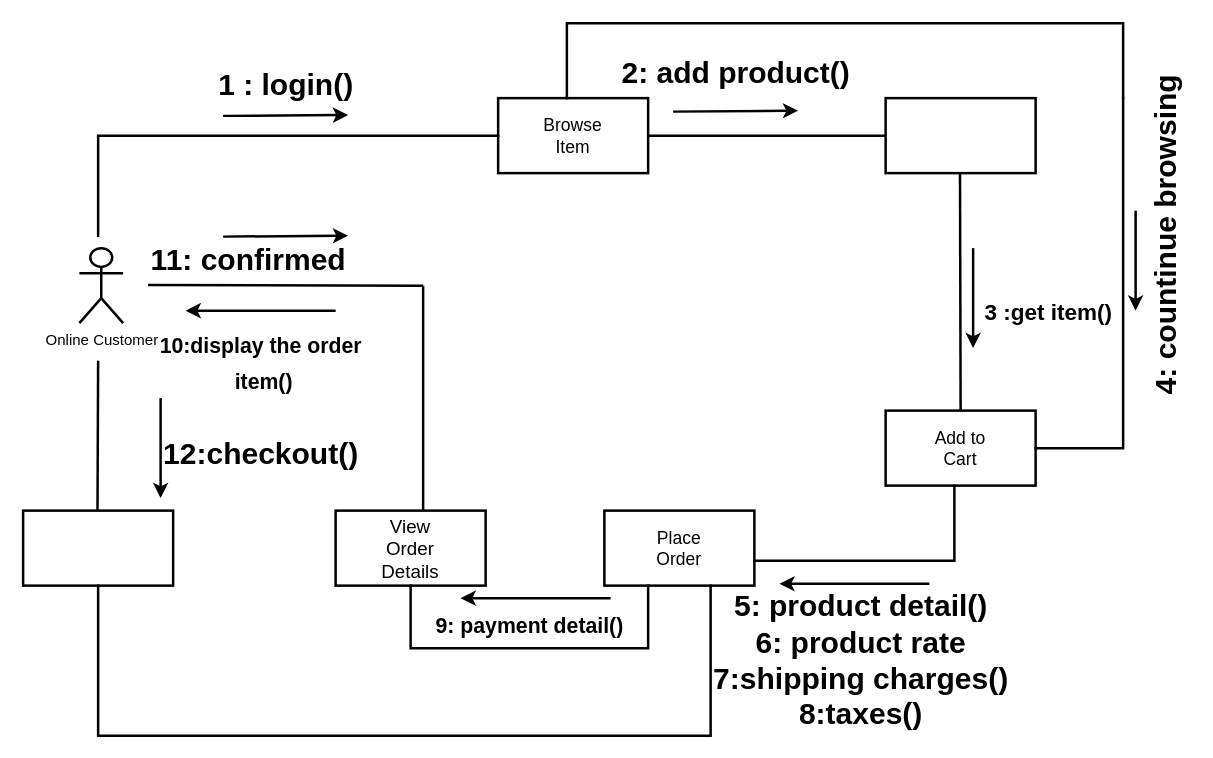
Some shapes in this 1213 by 758 pixel diagram are drawn without their labels. Here are the shapes that lost their labels. From the top down, the box of each, then its label:
(884, 96, 1036, 174): Shopping Cart
(21, 509, 174, 586): Logout
